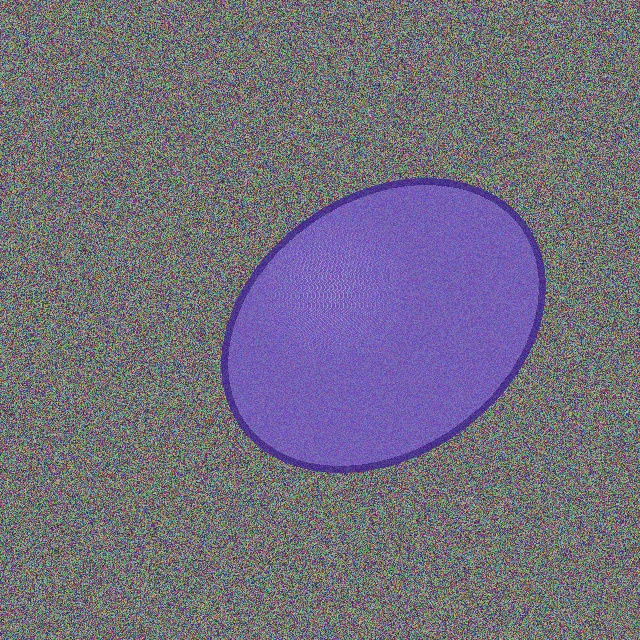lens: (224, 181, 542, 469)
